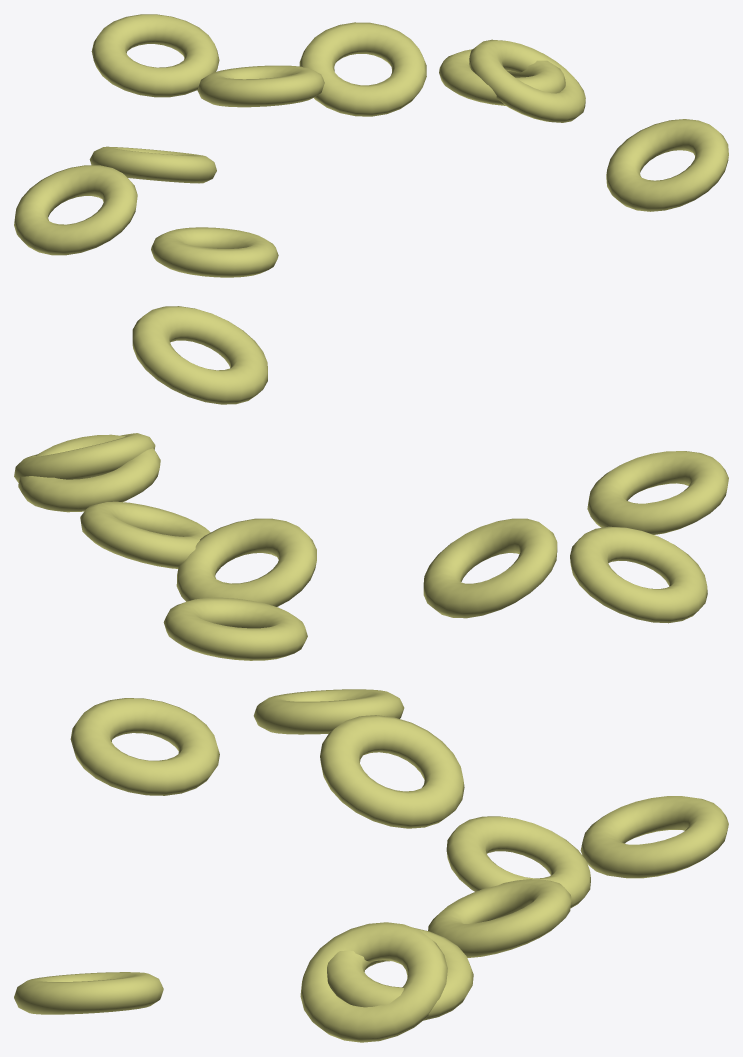
Rendered from chiles.glb.
The picture shows the model from 3 angles, top to bottom: view 1: azimuth 30°, elevation 25°; view 2: azimuth 150°, elevation 25°; view 3: azimuth 270°, elevation 25°; orthographic projection. The views are drawn at different scales.
Visible parts, largest first — view 1: chiles; view 2: chiles; view 3: chiles.
Part boxes in pixels (x1,y1,x2,y2): chiles: [14, 14, 728, 277]; chiles: [14, 306, 728, 660]; chiles: [14, 689, 728, 1042].
Size of the model in its own units: 0.6628 by 0.0667 by 0.5869.
